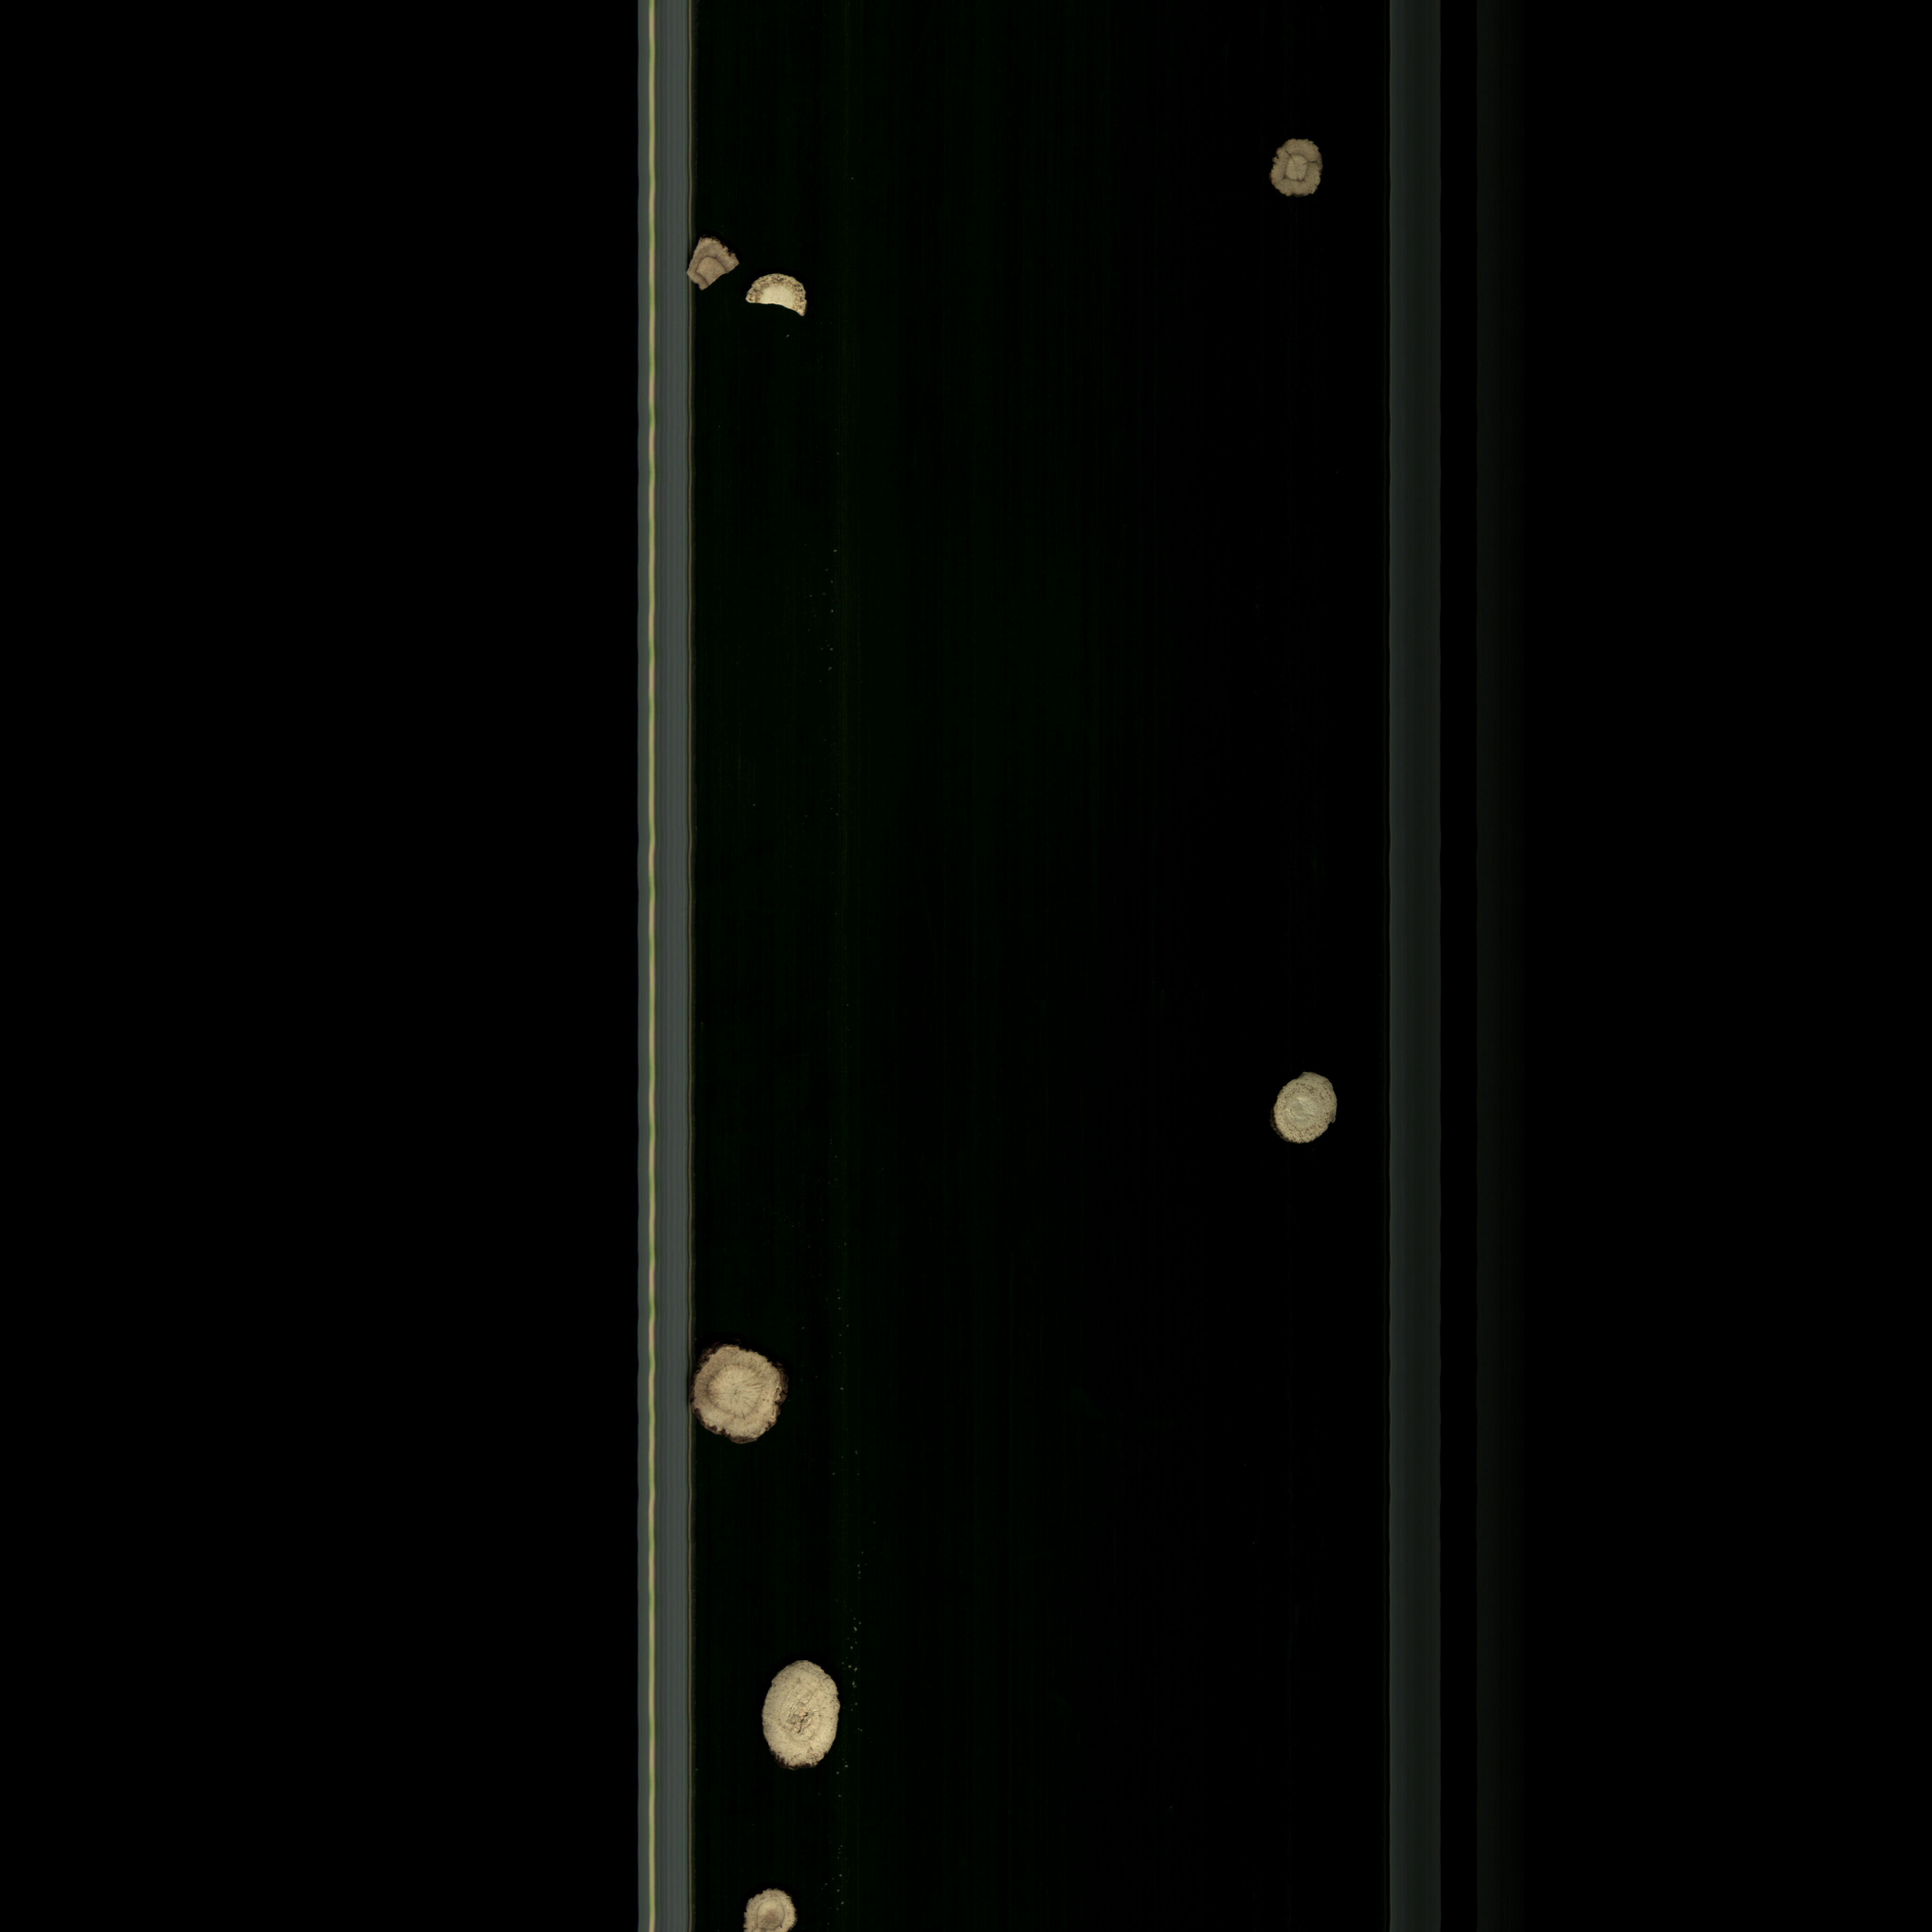distortion: (738, 1882, 803, 1932)
moldy: (688, 1336, 798, 1461), (1269, 129, 1336, 212), (686, 230, 747, 297), (743, 271, 819, 324)
